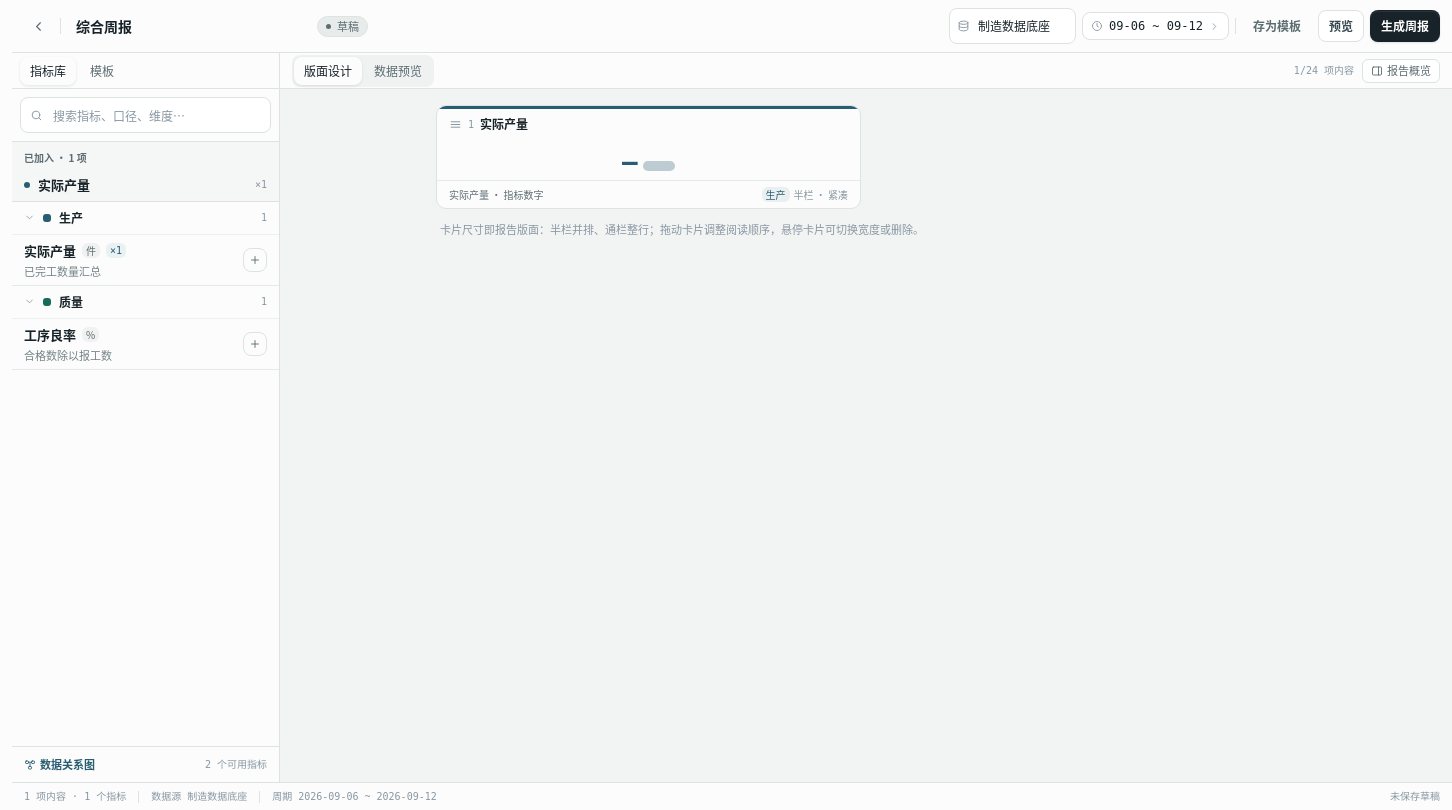
Test: ReportComposerPage › selecting a block opens its inspector and editing the title marks the draft dirty
Click the button with aria-label "编辑实际产量".
click(648, 108)  # box [436,105,861,209]
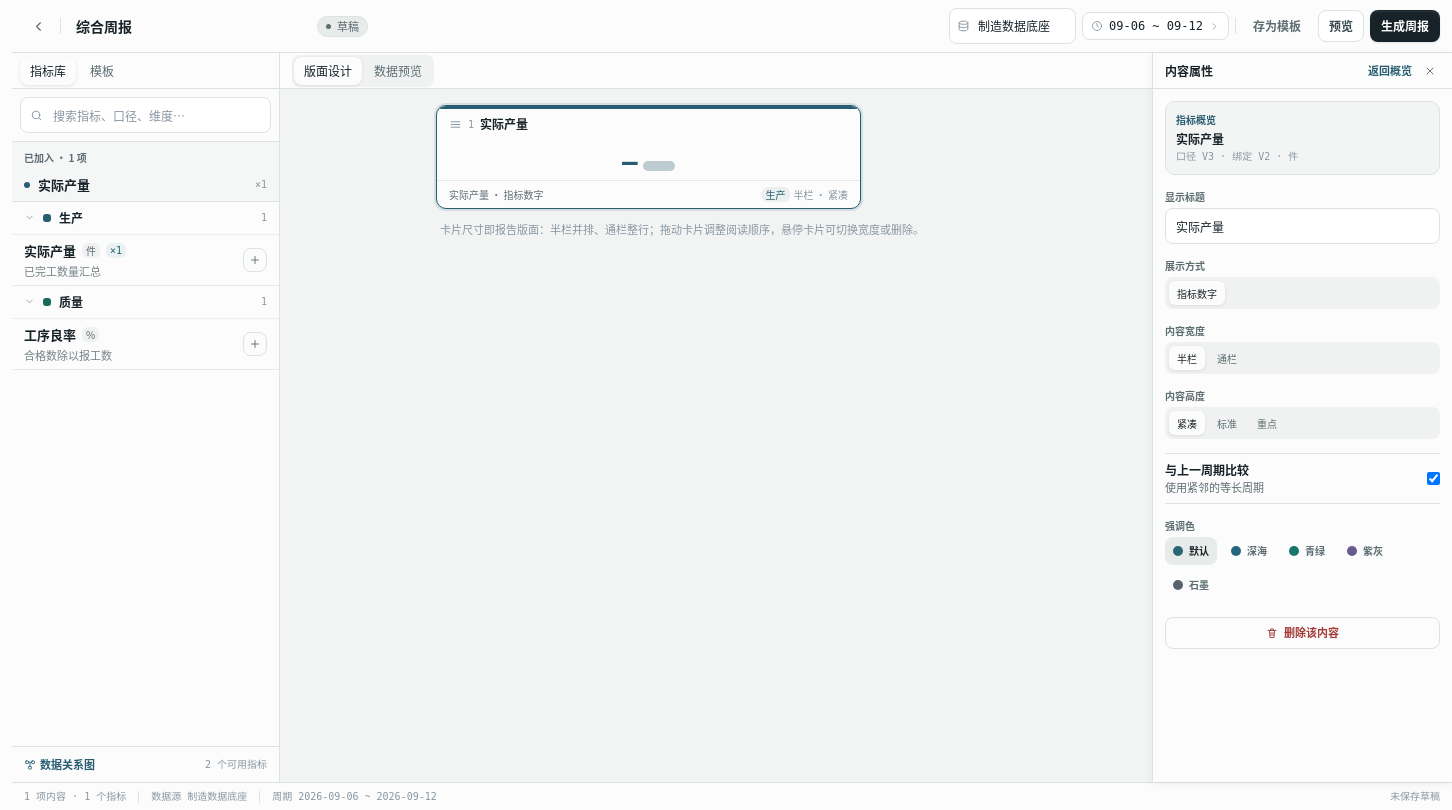
Now the heading "内容属性" is shown, box [1165,62,1213,78]
Replace the text in the field labelled "显示标题" with "本周实际产量" at (1302, 226), box [1165,208,1440,244]
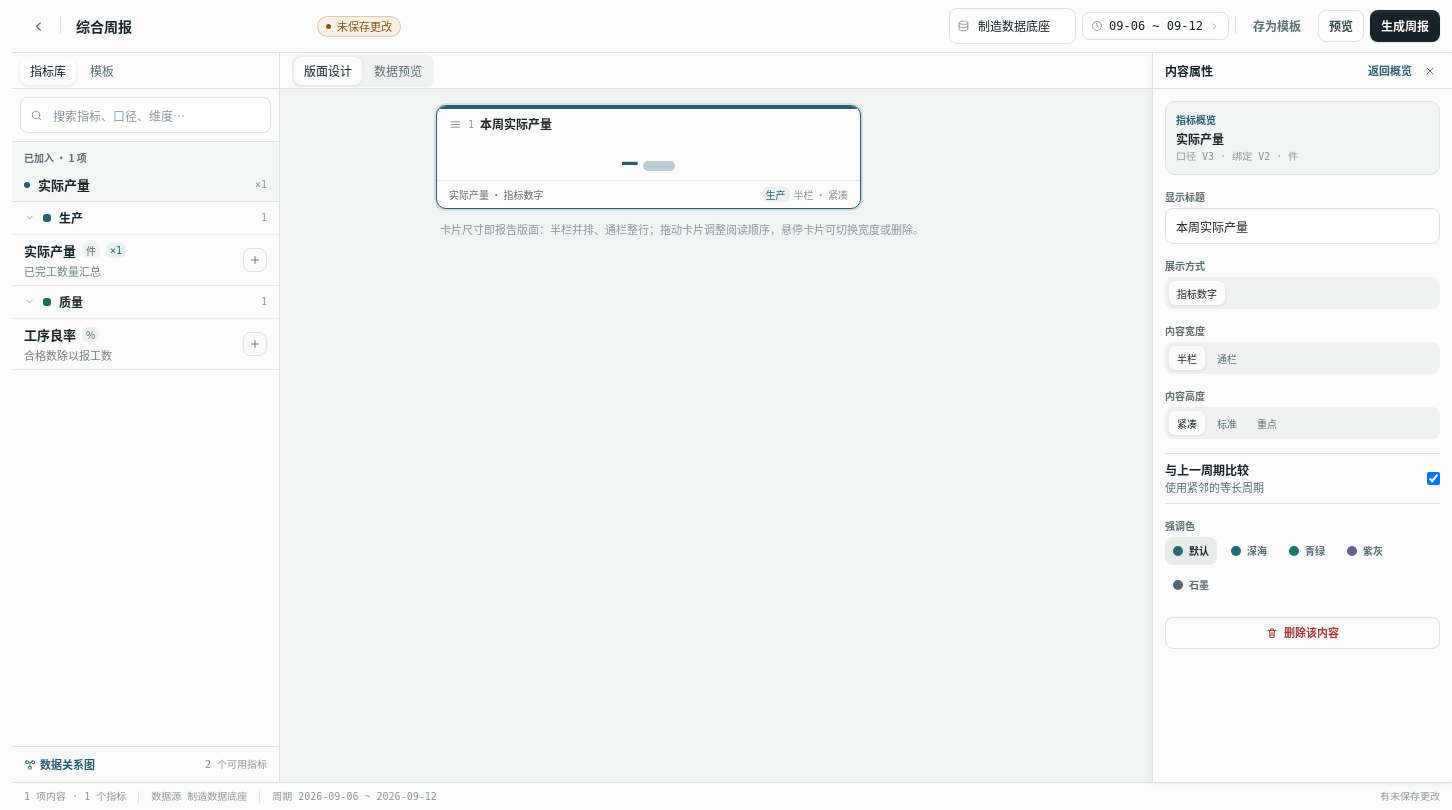
Now the button with aria-label "编辑本周实际产量" is shown, box [436,105,861,209]
Now the text "未保存更改" is shown, box [317,16,401,36]
